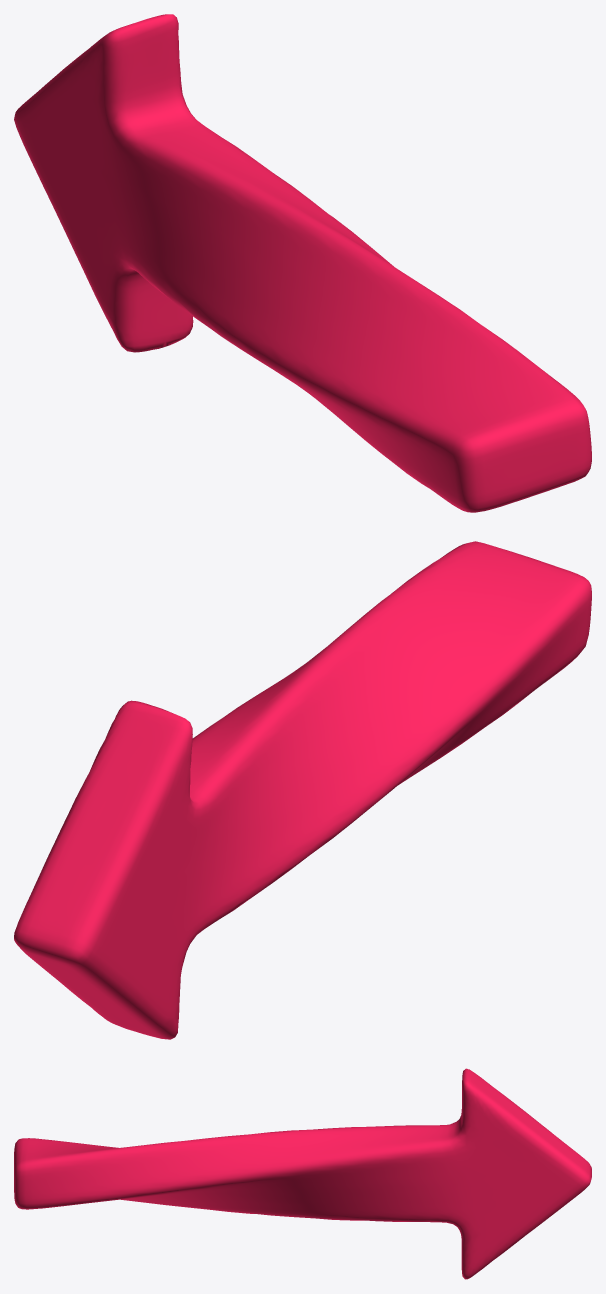
Rendered from animated arrow 9.fbx.
3 renders of one model, top to bottom at view 1: azimuth 30°, elevation 25°; view 2: azimuth 150°, elevation 25°; view 3: azimuth 270°, elevation 25°, orthographic. The views are drawn at different scales.
Visible parts, largest first — view 1: arrow; view 2: arrow; view 3: arrow.
Boxes of the visible parts, x1,y1,x2,y2 form: arrow: (14,14,591,512); arrow: (14,541,591,1039); arrow: (14,1068,591,1279).
Bounding box in the file's own units: 80.88 × 179 × 480.
